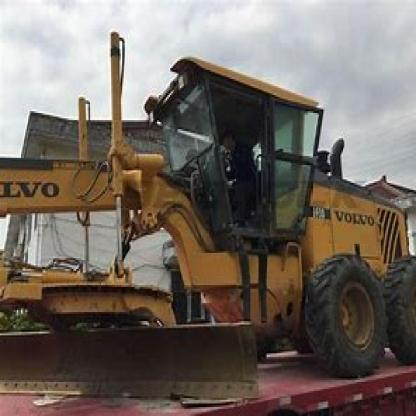bull_dozer/loader/grader: (0, 23, 415, 391)
